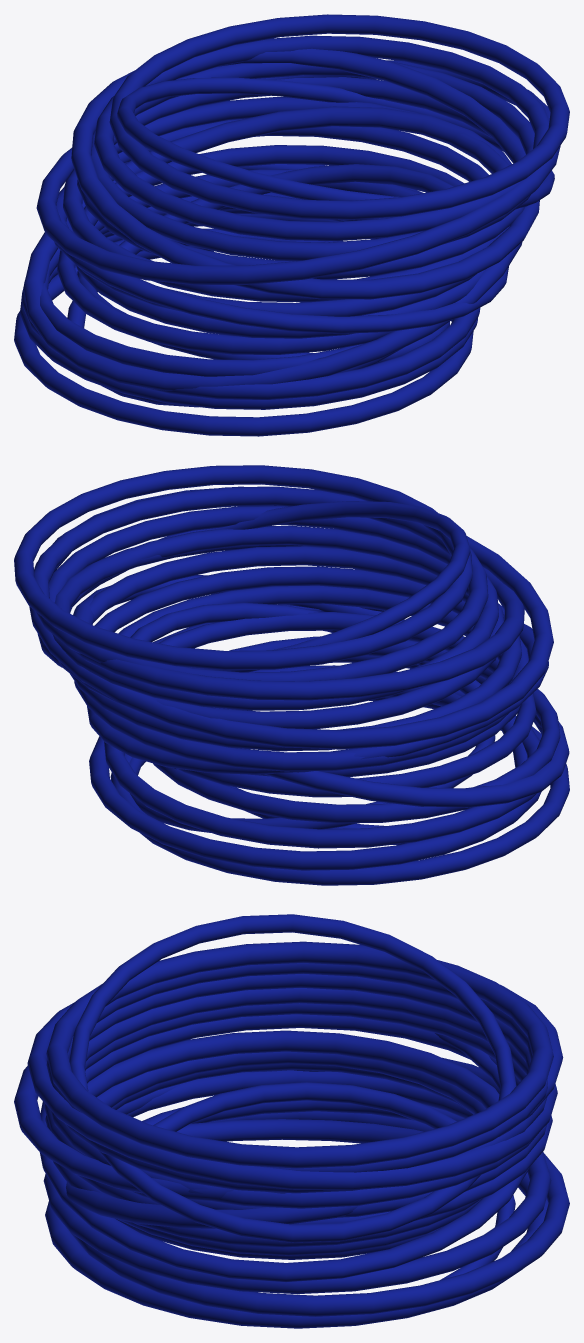
Rendered from line_big.FBX.
3 renders of one model, top to bottom at view 1: azimuth 30°, elevation 25°; view 2: azimuth 150°, elevation 25°; view 3: azimuth 270°, elevation 25°, orthographic. The views are drawn at different scales.
Parts seen in each view (by area): view 1: Circle015; view 2: Circle015; view 3: Circle015.
Part boxes in pixels (x1,y1,x2,y2): Circle015: (14, 14, 569, 436); Circle015: (14, 465, 569, 885); Circle015: (14, 914, 569, 1328).
Bounding box in the file's own units: 519 × 236 × 457.
